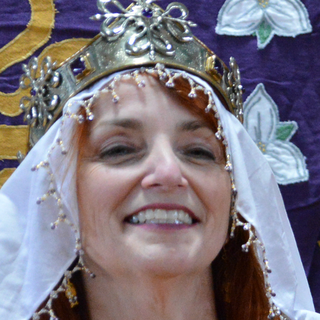eye: (95, 140, 140, 166), (177, 140, 222, 166)
